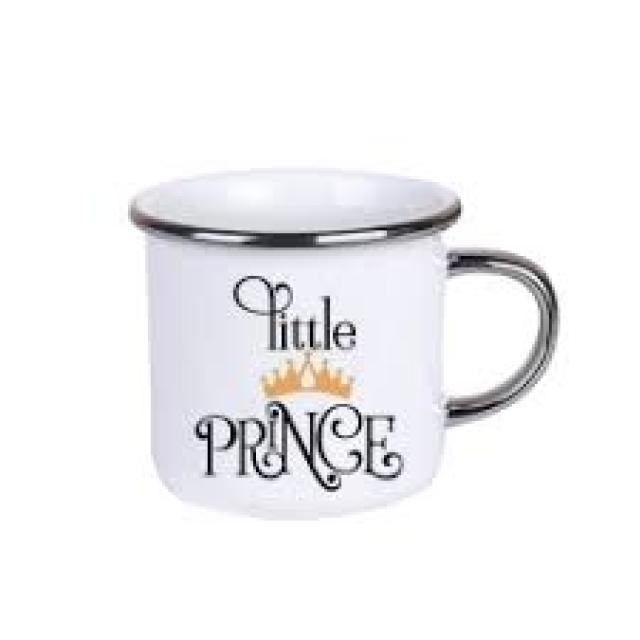taza: (128, 163, 560, 524)
